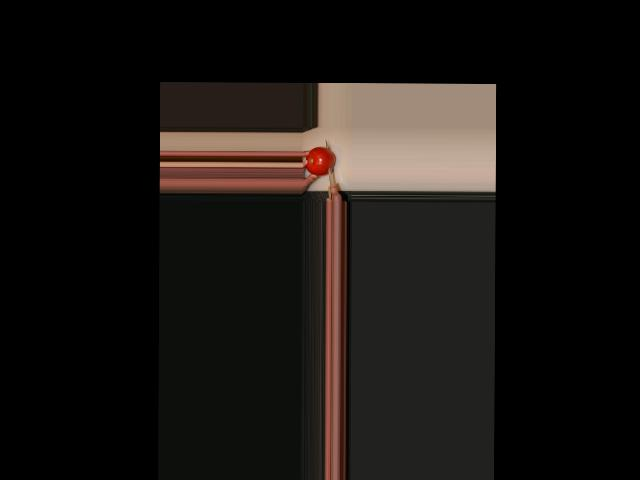tomato: (305, 146, 335, 175)
